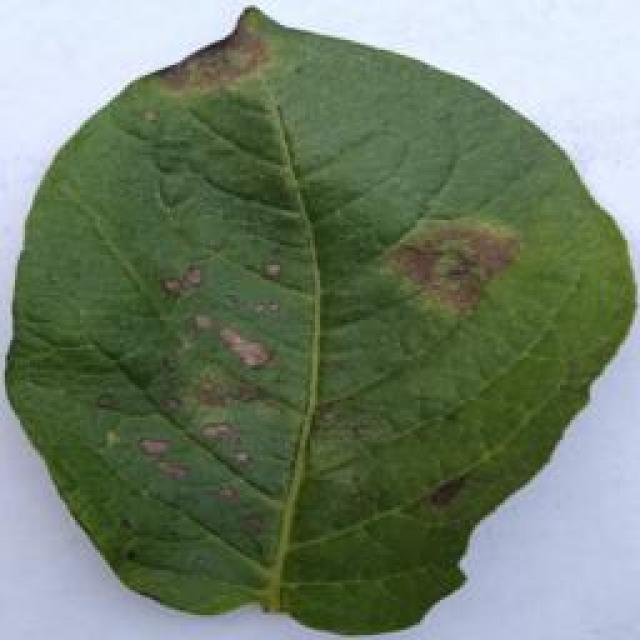Potato_Late_Blight: (7, 5, 637, 630)
